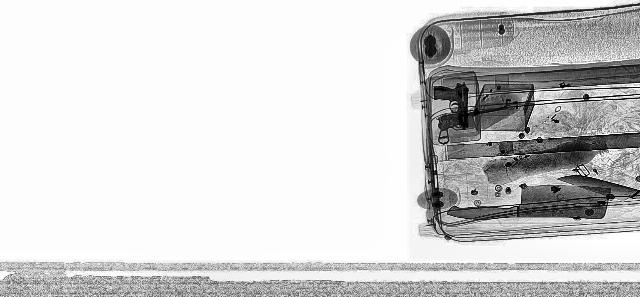Gun: (422, 106, 526, 145), (434, 82, 471, 128)
Knife: (440, 183, 612, 221), (551, 169, 639, 201)
